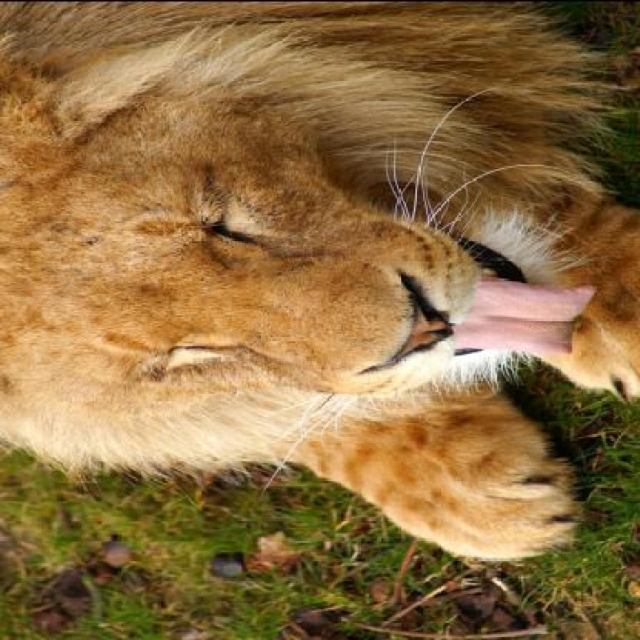Lion: (6, 14, 639, 561)
